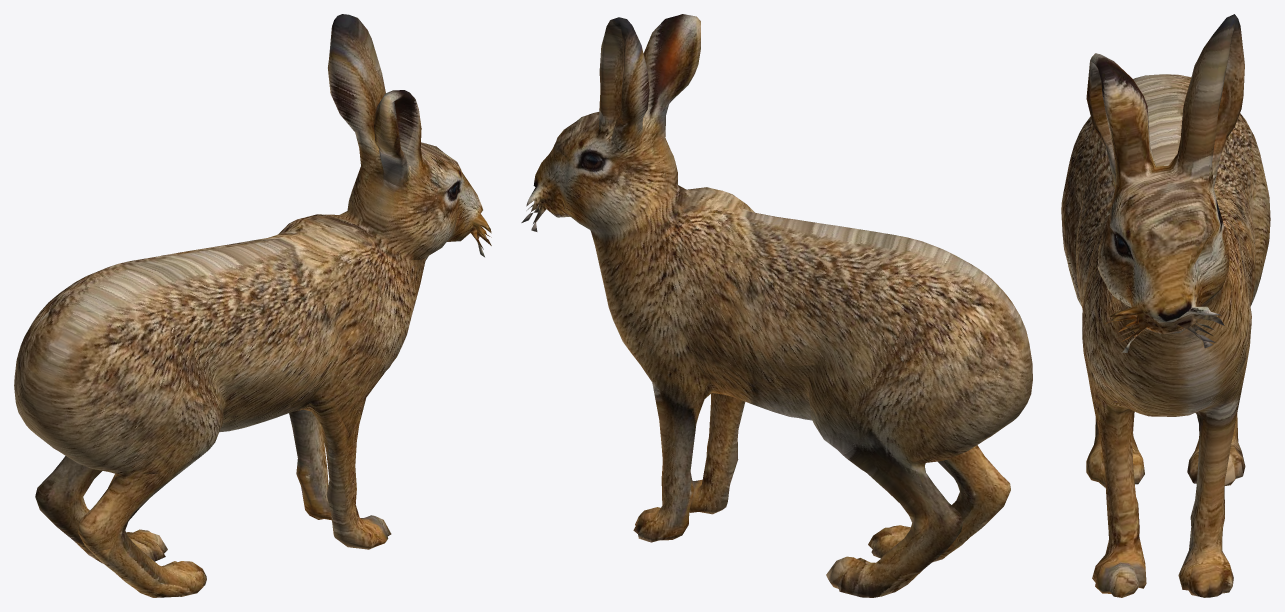
File: rabbit.glb
3 views of the same model, side by side, from view 1: azimuth 30°, elevation 25°; view 2: azimuth 150°, elevation 25°; view 3: azimuth 270°, elevation 25° (orthographic). The views are drawn at different scales.
Visible parts, largest first — view 1: geometry_0; view 2: geometry_0; view 3: geometry_0.
Boxes of the visible parts, x1,y1,x2,y2 form: geometry_0: (14,14,491,597); geometry_0: (521,14,1032,597); geometry_0: (1061,14,1270,597).
Size of the model in its own units: 0.5924 by 0.6 by 0.1944.
1 material, 1 textured.
